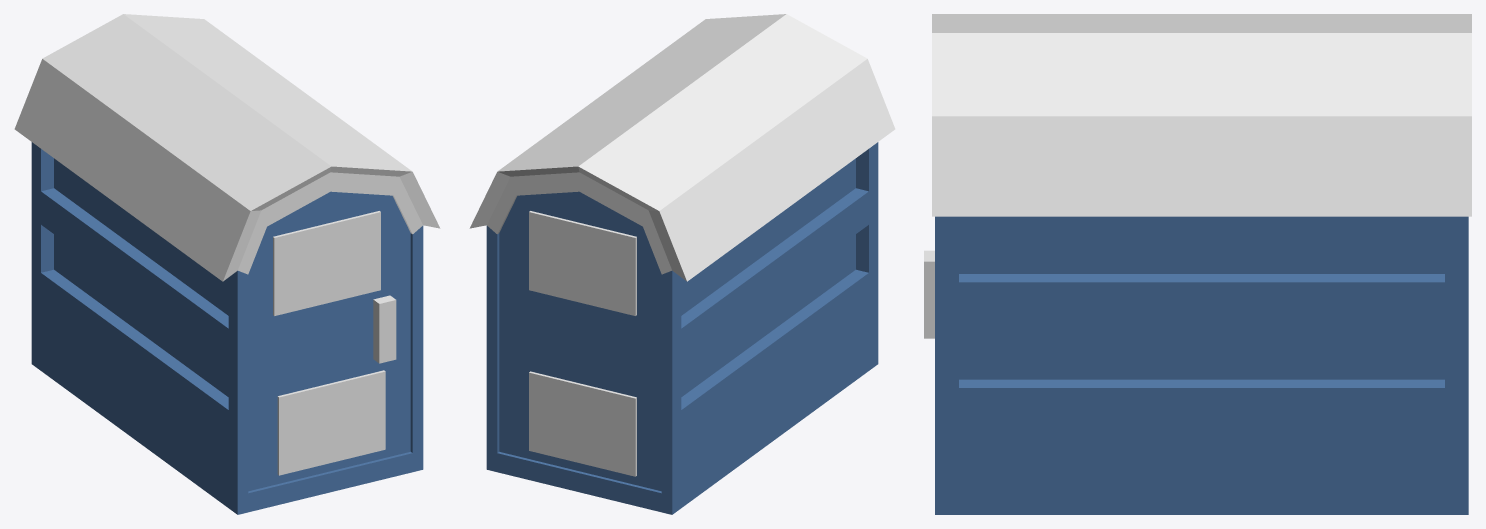
The model's file is Chemicaltoilet.fbx.
The picture shows the model from 3 angles, left to right: view 1: azimuth 30°, elevation 25°; view 2: azimuth 150°, elevation 25°; view 3: azimuth 270°, elevation 25°; orthographic projection. The views are drawn at different scales.
Parts seen in each view (by area): view 1: Chemicaltoilet; view 2: Chemicaltoilet; view 3: Chemicaltoilet.
Part boxes in pixels (bbox=[...]): Chemicaltoilet: bbox=[14, 14, 440, 514]; Chemicaltoilet: bbox=[469, 14, 895, 514]; Chemicaltoilet: bbox=[924, 14, 1471, 514].
Bounding box in the file's own units: 764 × 1095 × 1284.
